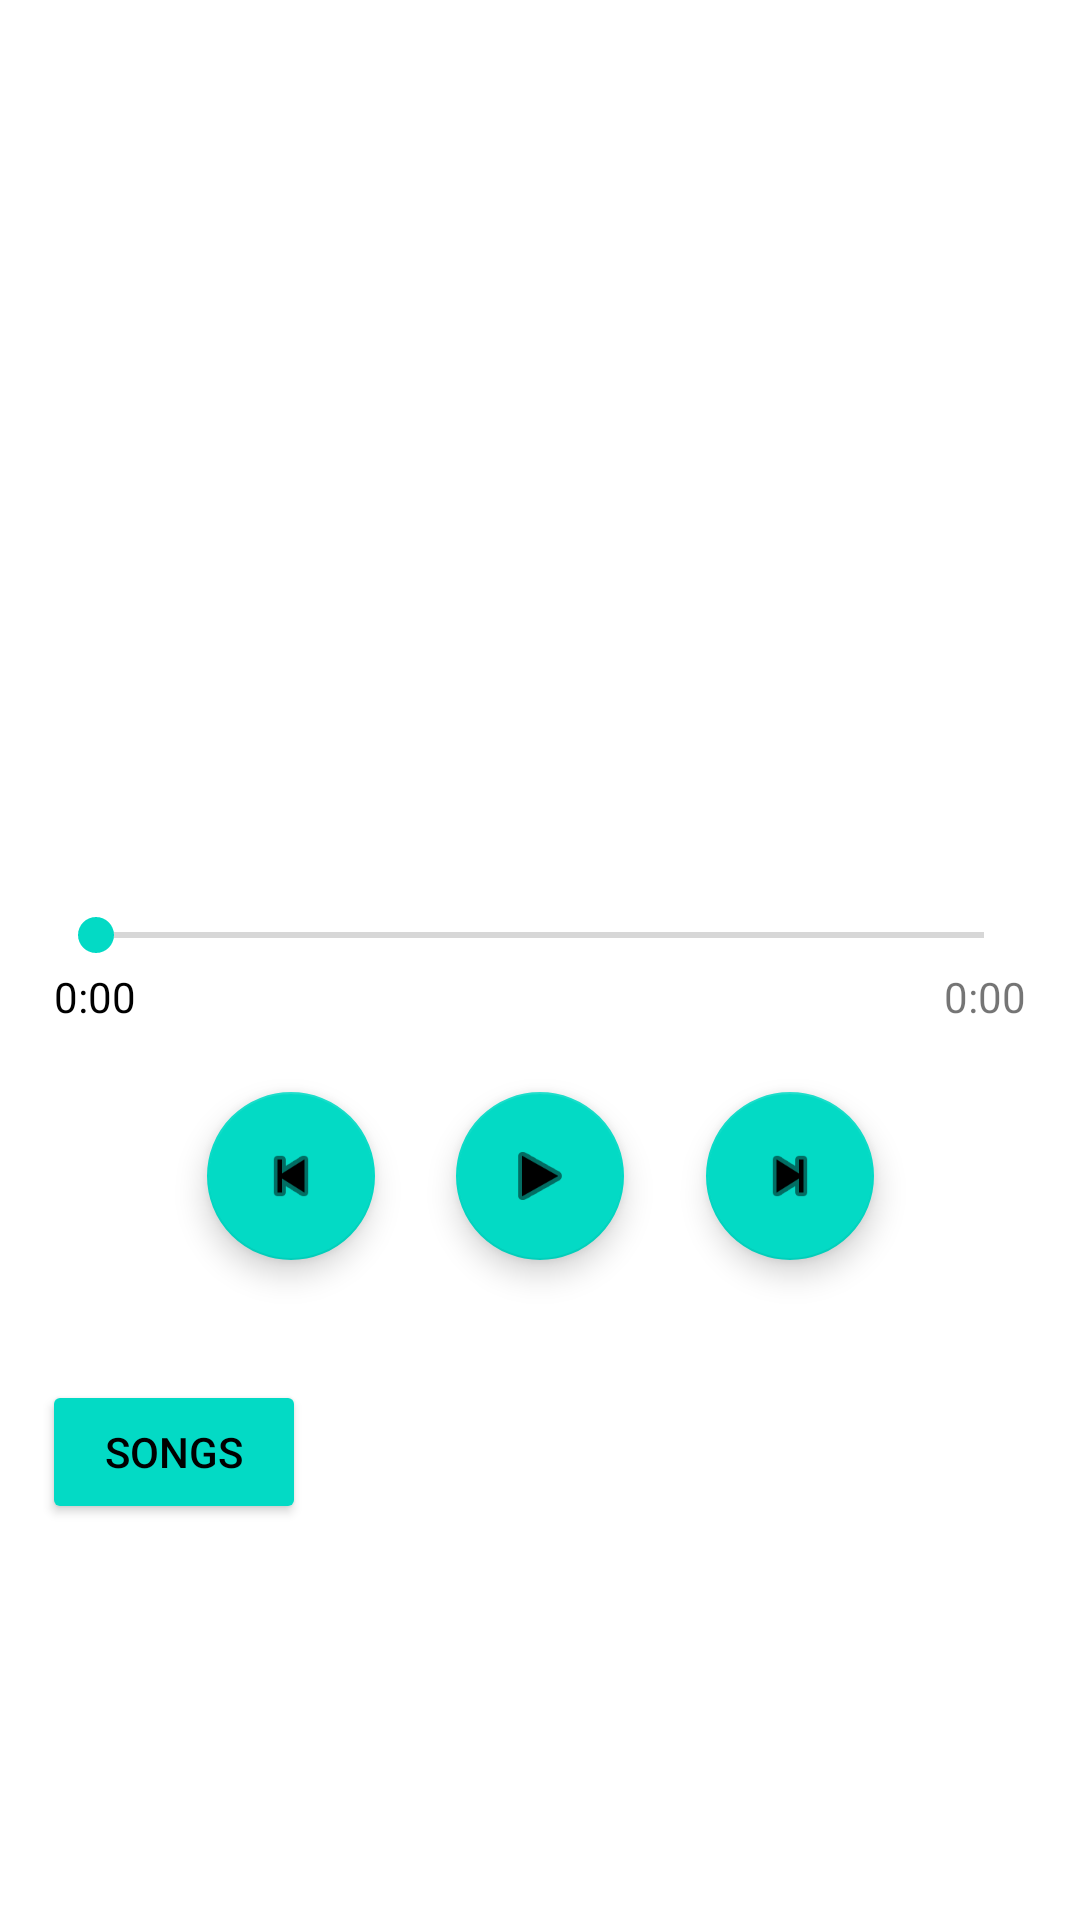

Named icons in this screenshot (1080px×1920px) and their bounding boxes, box=[x1, y1, x2, y2]:
next: box=[706, 1092, 874, 1260]
play: box=[456, 1092, 624, 1260]
previous: box=[207, 1092, 375, 1260]
